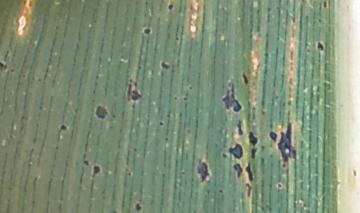tarspot: (277, 121, 297, 169), (219, 79, 242, 113), (125, 78, 142, 103), (195, 158, 211, 184), (227, 143, 245, 161), (93, 104, 109, 121), (234, 116, 246, 137), (231, 162, 244, 181), (244, 159, 254, 182), (247, 130, 259, 147), (158, 58, 171, 72), (91, 164, 101, 179), (267, 130, 278, 143), (249, 146, 259, 160), (244, 182, 252, 199), (315, 40, 325, 52), (241, 71, 249, 86), (57, 122, 69, 132), (1, 59, 9, 74), (133, 201, 143, 212), (141, 26, 152, 36), (81, 158, 91, 167), (167, 2, 175, 13), (250, 110, 257, 122), (164, 111, 172, 121), (220, 151, 228, 160), (351, 168, 358, 178), (285, 98, 292, 108), (321, 1, 328, 10), (126, 170, 133, 179), (316, 16, 323, 25), (158, 120, 165, 128), (181, 95, 188, 103), (276, 182, 283, 190), (162, 136, 170, 143), (8, 67, 15, 75), (305, 47, 312, 55), (20, 72, 27, 80), (178, 170, 187, 176), (217, 187, 223, 195), (111, 112, 117, 120), (136, 65, 144, 71), (36, 75, 42, 83), (172, 95, 178, 102), (187, 84, 193, 91), (174, 34, 179, 42)
